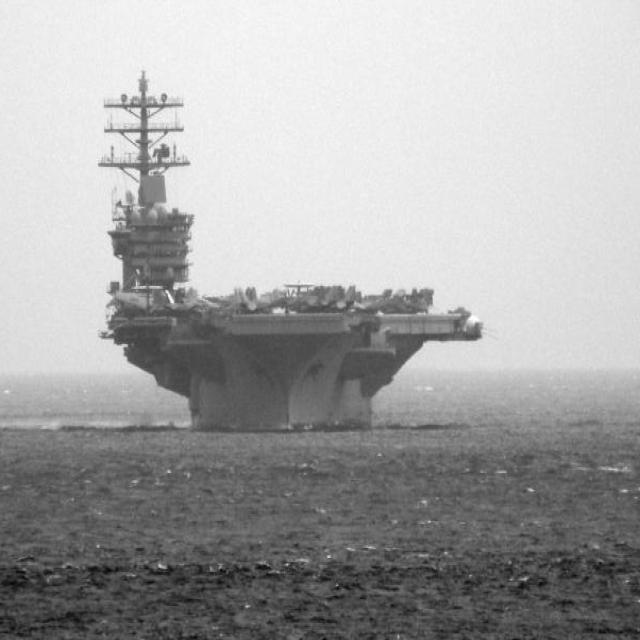Portanaves: (97, 63, 490, 440)
